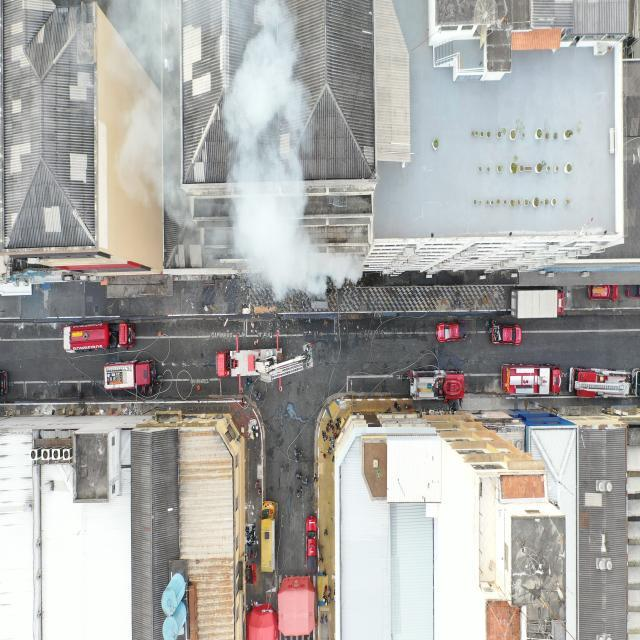Smoke: (104, 0, 366, 303)
